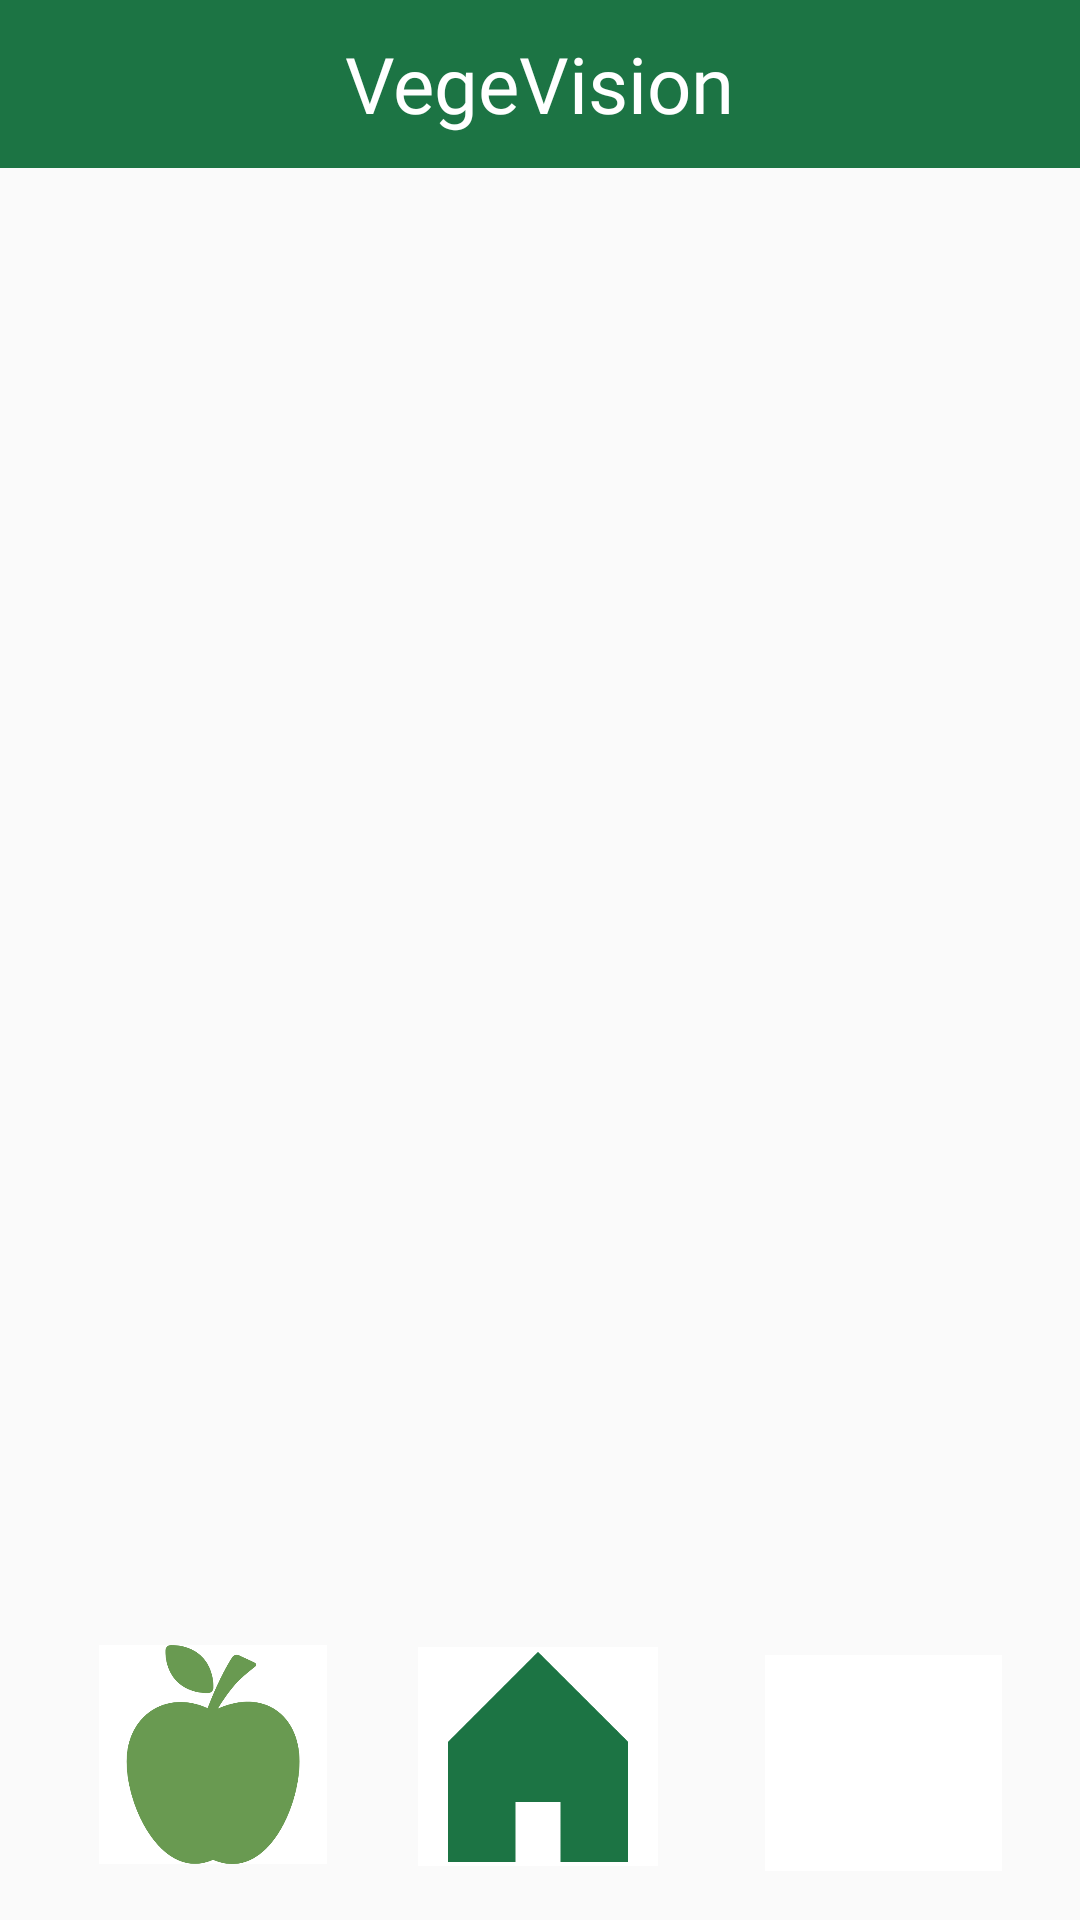

Where to tap for icons on this 1080x1920 app screen, as (x=x, y=y):
homebutton: (x=538, y=1757)
